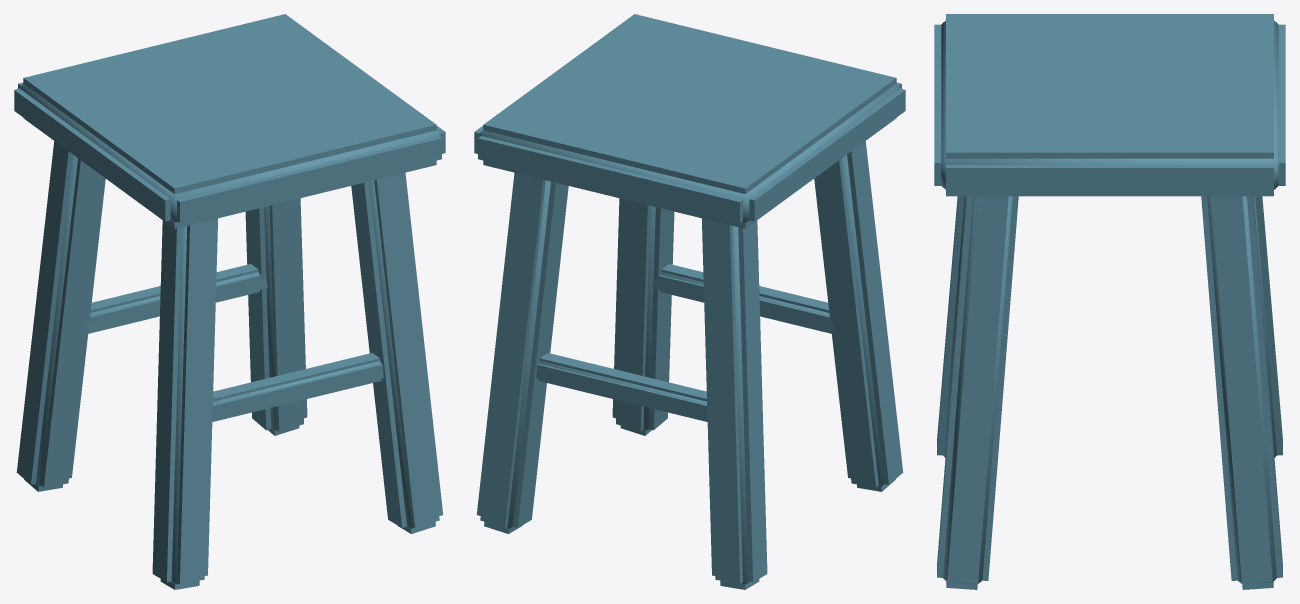
Rendered from PlasticStoolHigh.glb.
3 views of the same model, side by side, from view 1: azimuth 30°, elevation 25°; view 2: azimuth 150°, elevation 25°; view 3: azimuth 270°, elevation 25° (orthographic). The views are drawn at different scales.
Visible parts, largest first — view 1: ST_PlasticStoolHigh_ST_plastic_blue.001; view 2: ST_PlasticStoolHigh_ST_plastic_blue.001; view 3: ST_PlasticStoolHigh_ST_plastic_blue.001.
Part boxes in pixels (x1,y1,x2,y2): ST_PlasticStoolHigh_ST_plastic_blue.001: (14,14,445,589); ST_PlasticStoolHigh_ST_plastic_blue.001: (474,14,905,589); ST_PlasticStoolHigh_ST_plastic_blue.001: (934,14,1285,589).
Size of the model in its own units: 0.32 by 0.4421 by 0.32.
